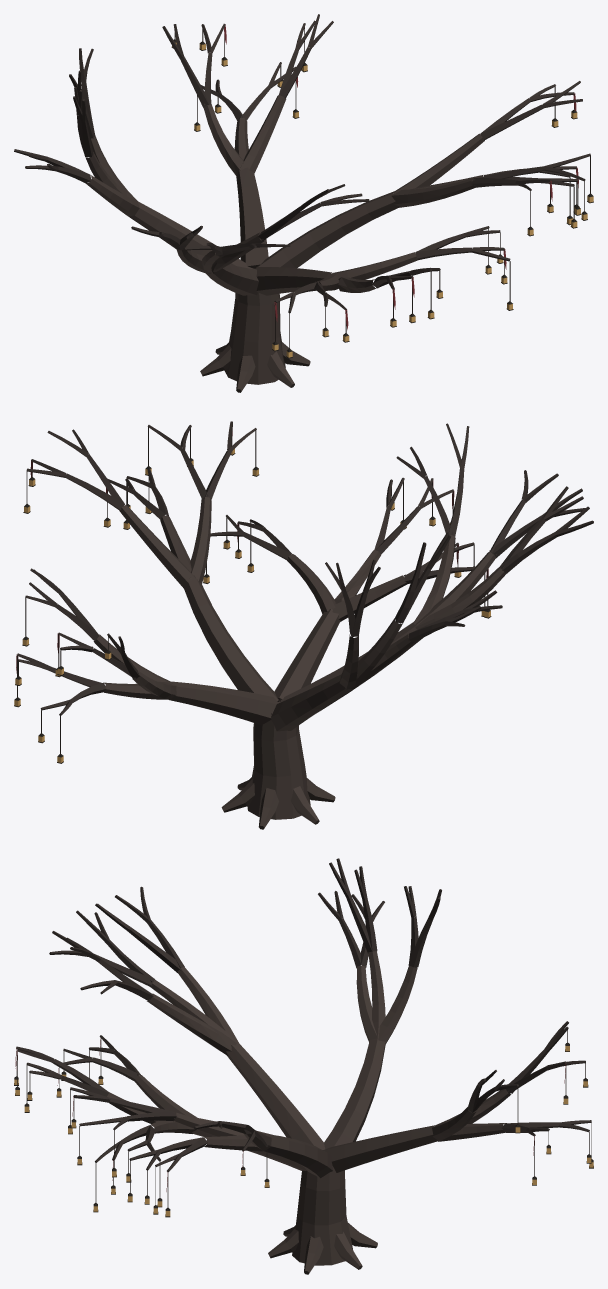
File: lantern-oak.glb
3 views of the same model, one above another, from view 1: azimuth 30°, elevation 25°; view 2: azimuth 150°, elevation 25°; view 3: azimuth 270°, elevation 25° (orthographic). The views are drawn at different scales.
Visible parts, largest first — view 1: lantern-oak; view 2: lantern-oak; view 3: lantern-oak.
Part boxes in pixels (<box>): lantern-oak: <box>14,14,593,392</box>; lantern-oak: <box>14,421,593,829</box>; lantern-oak: <box>14,858,593,1274</box>.
Bounding box in the file's own units: 23.19 × 13.71 × 23.16.
